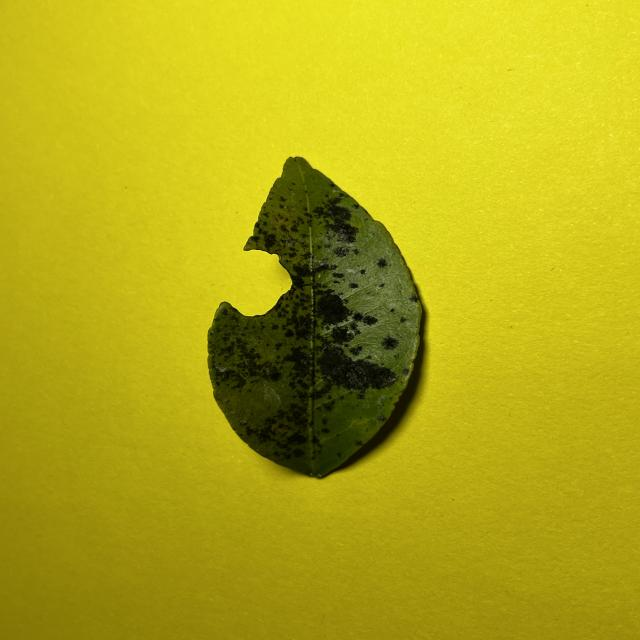sooty_mold: (208, 157, 421, 477)
